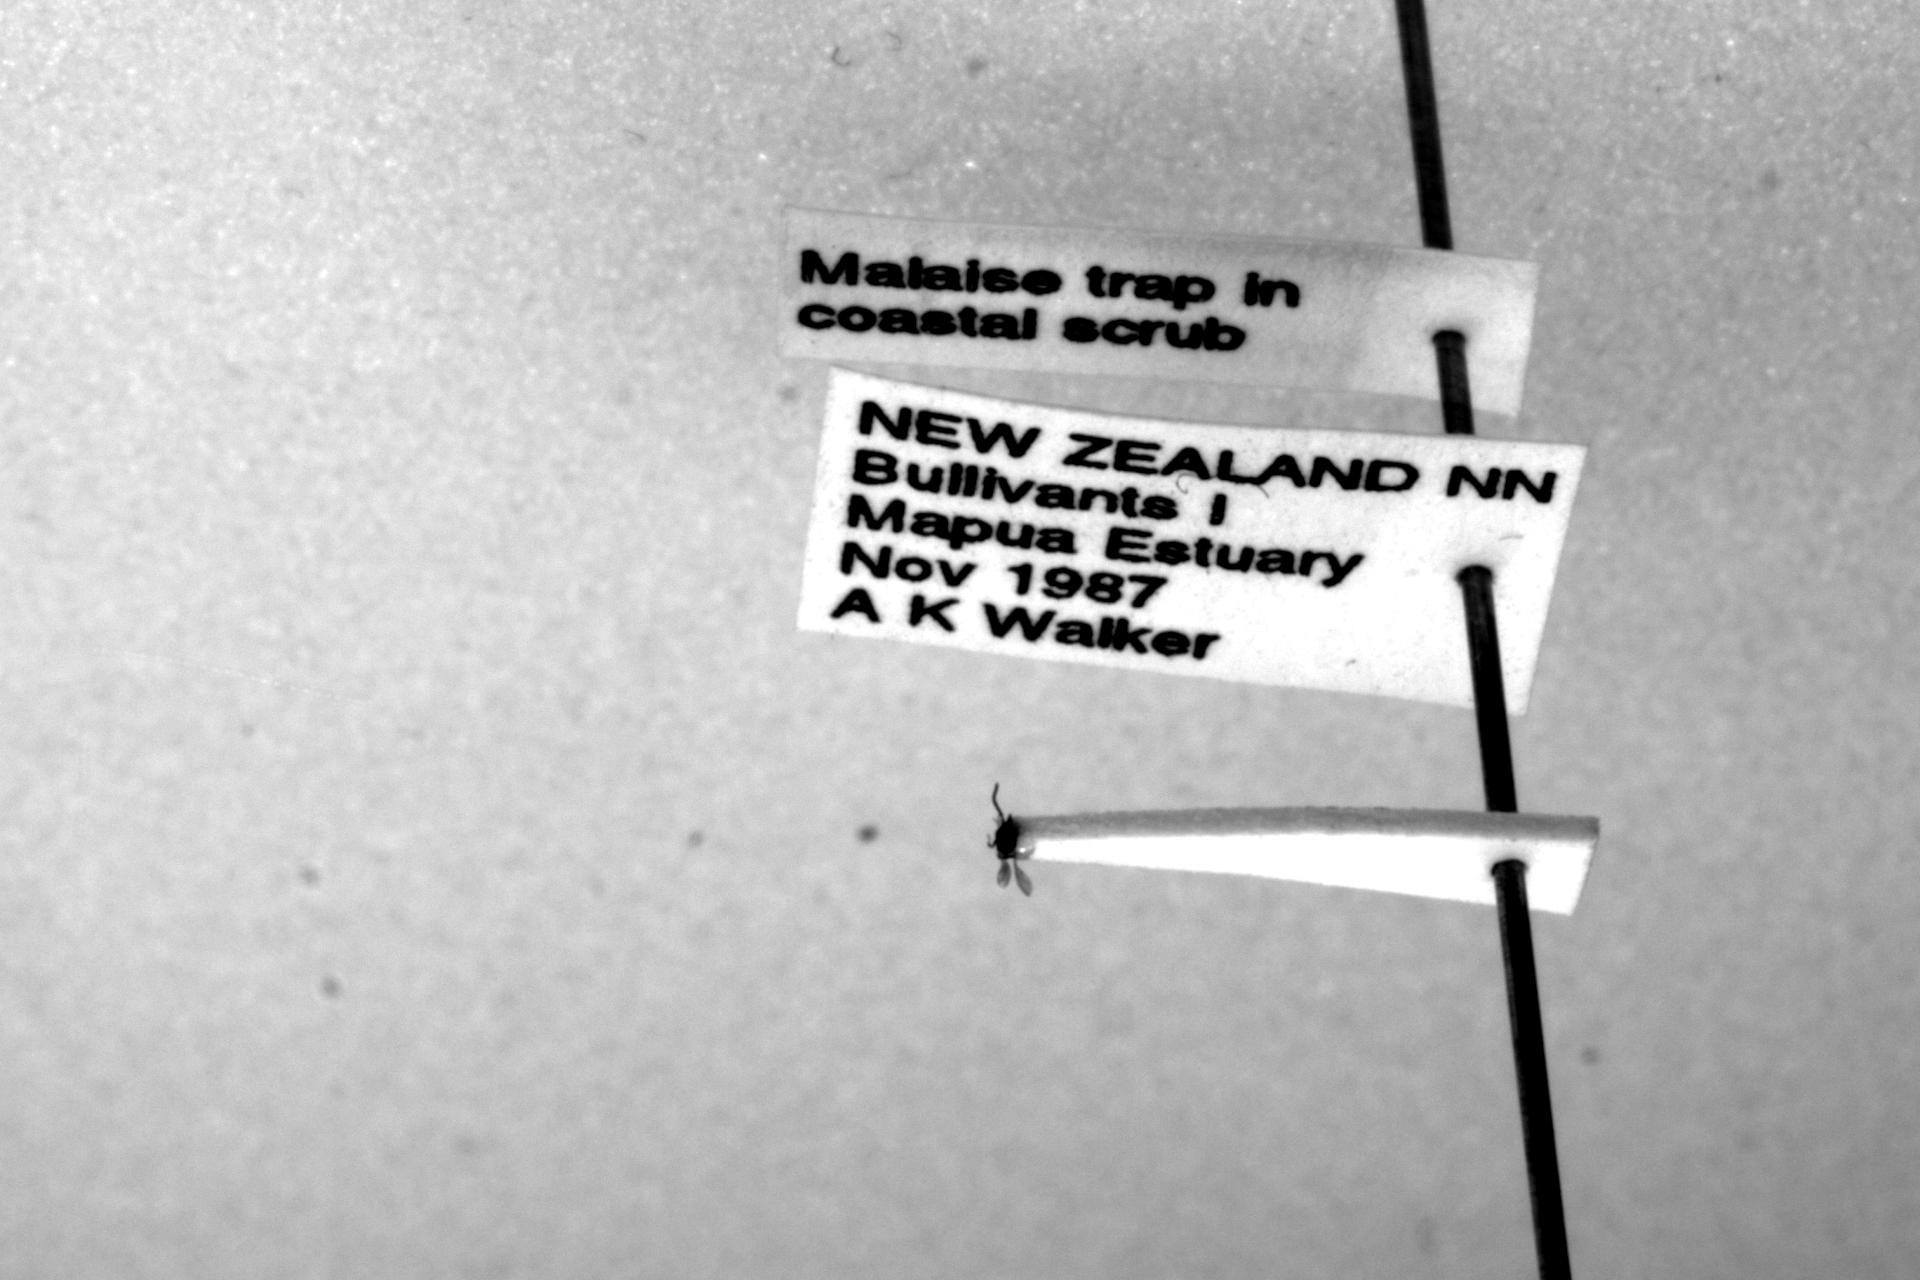typed_label: (799, 368, 1586, 712), (780, 206, 1538, 416)
